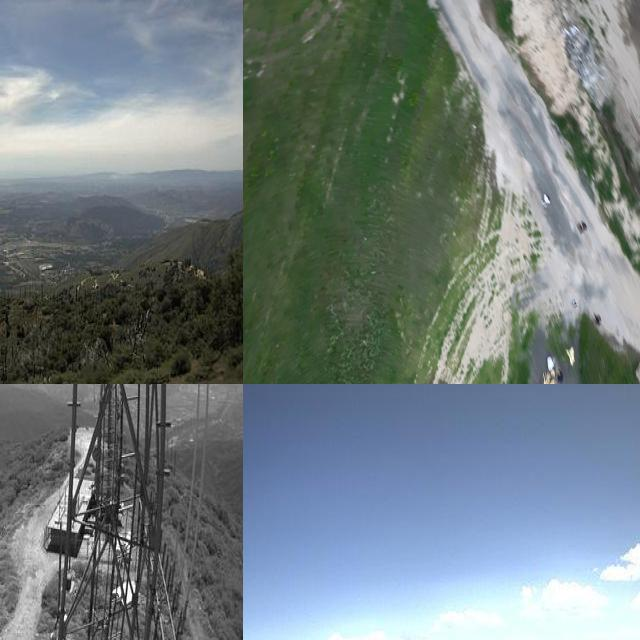fire: (526, 350, 573, 384)
smoke: (395, 624, 447, 640)
